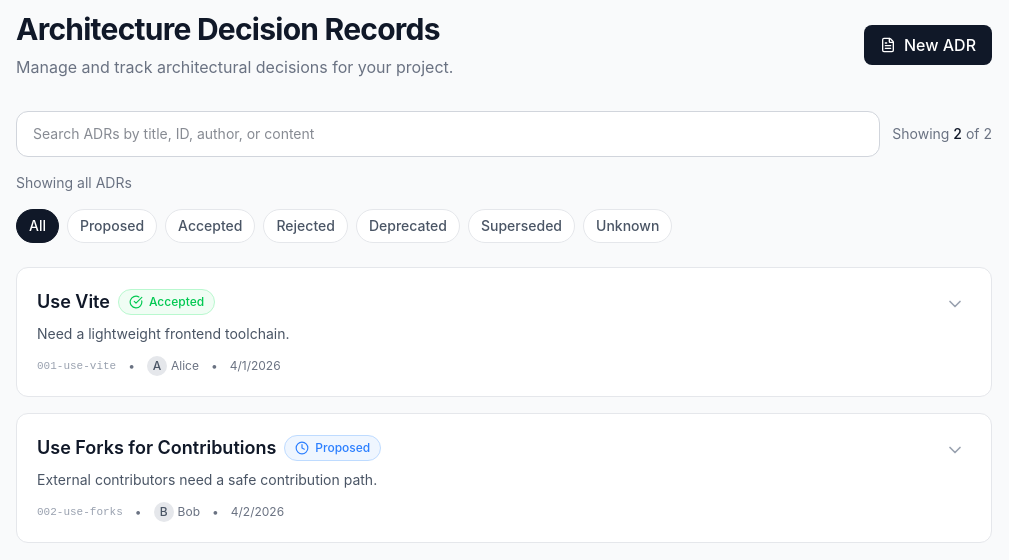
AdrList › filters ADRs by status
Click the button "Proposed" at (112, 226), box [67,209,157,243]
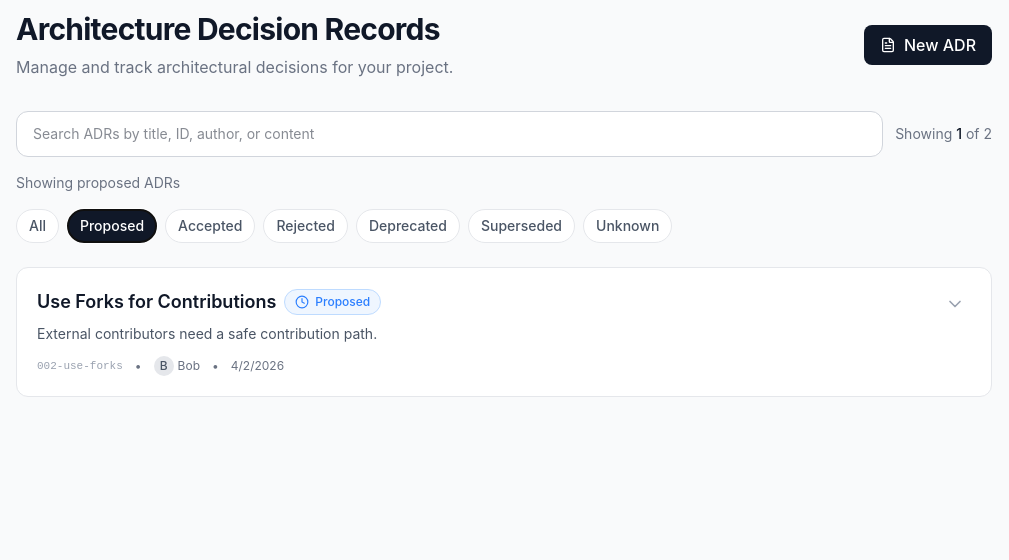
Expected: the heading "Use Forks for Contributions" is shown, [37,288,276,316]
Now the heading "Use Vite" is gone
